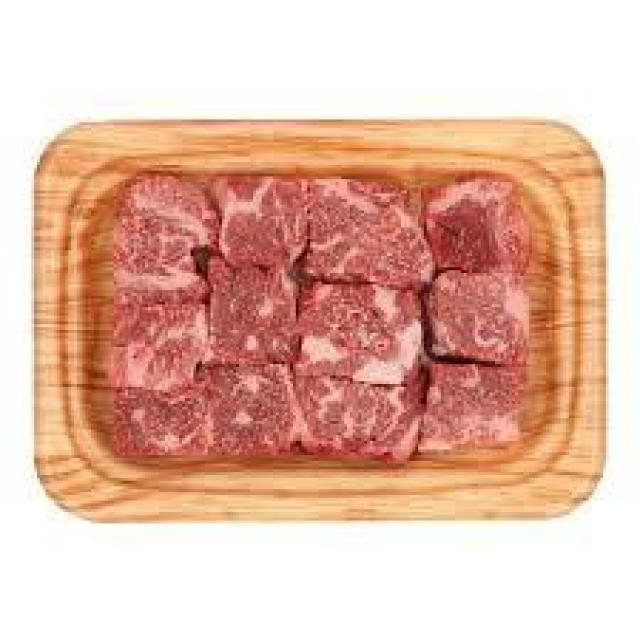beef: (130, 176, 541, 482)
